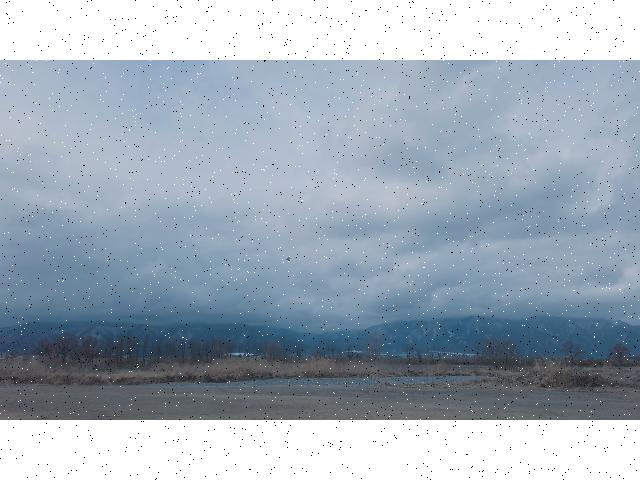Anti-Drone: (284, 254, 294, 263)
